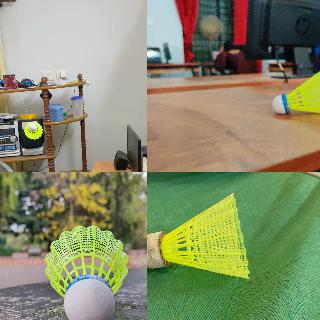shuttlecock: (147, 193, 250, 280), (45, 224, 130, 319), (272, 70, 319, 115), (23, 121, 42, 139)
